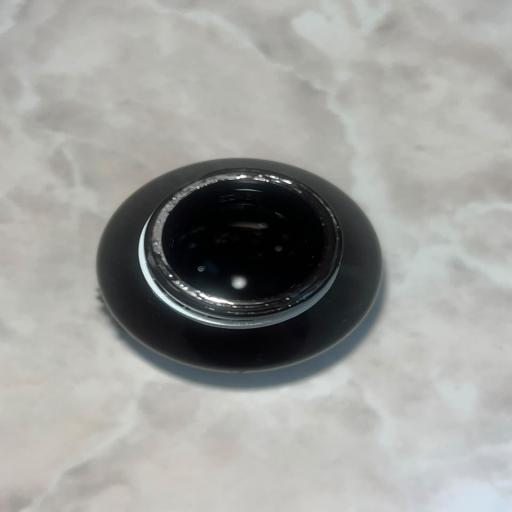HDPE: (79, 108, 429, 452)
